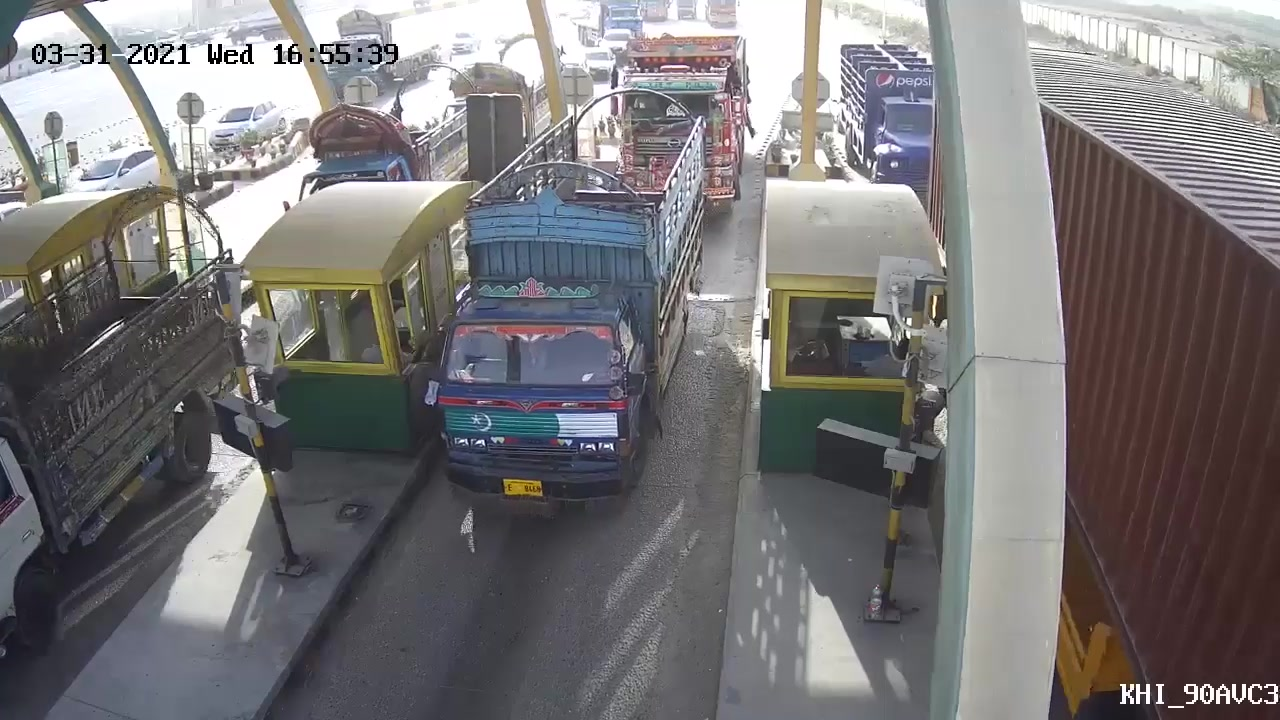F5: (419, 87, 710, 520)
